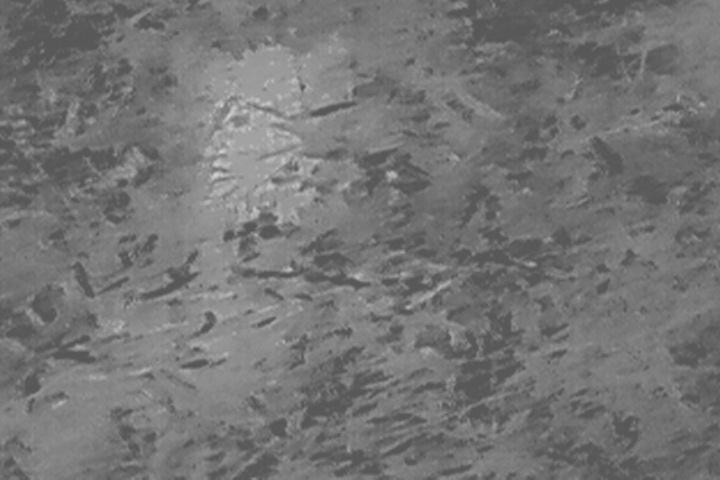landmine: (200, 52, 345, 216)
